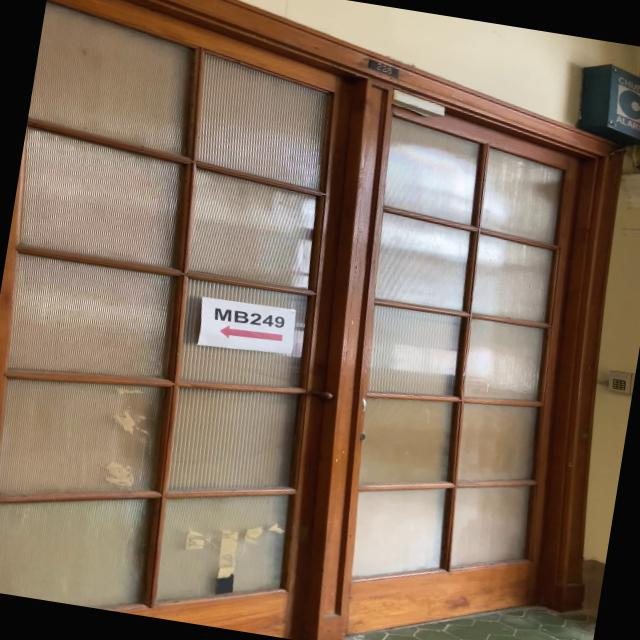room228: (364, 56, 404, 81)
